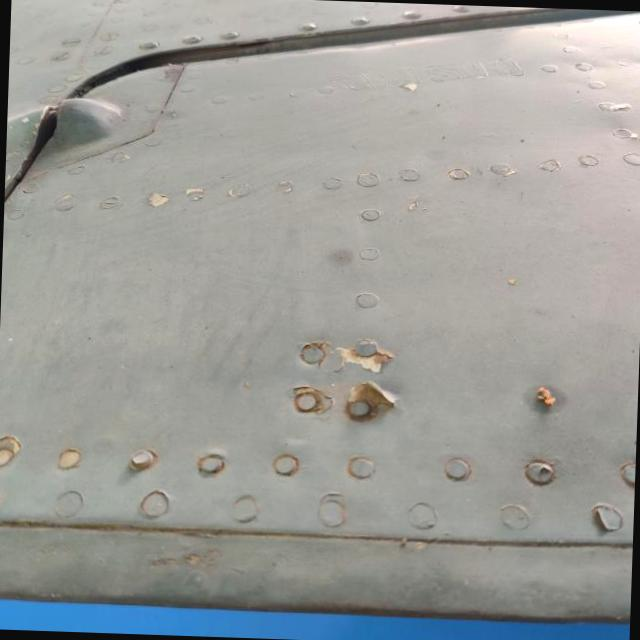paint-off: (269, 321, 414, 443)
